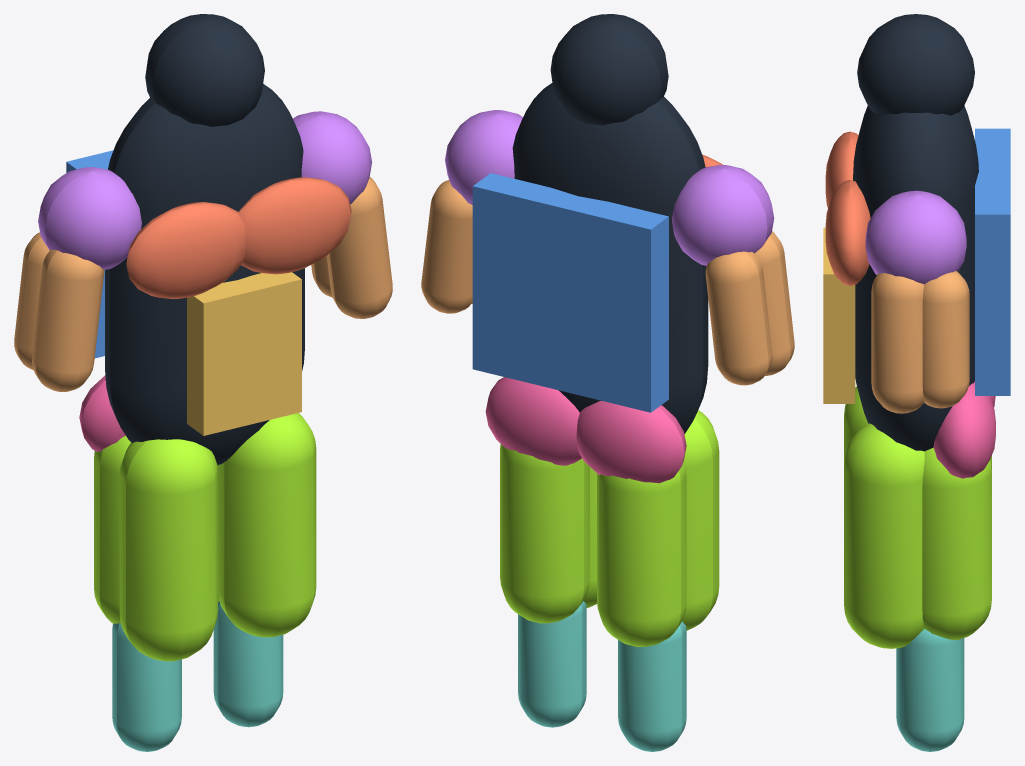
File: ironpulse-muscles.glb
3 views of the same model, side by side, from view 1: azimuth 30°, elevation 25°; view 2: azimuth 150°, elevation 25°; view 3: azimuth 270°, elevation 25° (orthographic). The views are drawn at different scales.
Visible parts, largest first — view 1: Torso, Quadriceps_L, Quadriceps_R, Core, Head, Chest_L, Chest_R, Biceps_L, Shoulder_L, Calf_L, Calf_R, Biceps_R (+5 smaller); view 2: Back, Torso, Hamstring_L, Hamstring_R, Head, Shoulder_L, Glute_L, Triceps_L, Calf_L, Calf_R, Quadriceps_L, Glute_R (+4 smaller); view 3: Torso, Quadriceps_R, Hamstring_R, Head, Back, Shoulder_R, Calf_R, Biceps_R, Triceps_R, Core, Glute_R, Chest_R (+2 smaller).
Part boxes in pixels (x1,y1,x2,y2): Torso: (105, 84, 304, 465); Quadriceps_L: (119, 439, 217, 661); Quadriceps_R: (217, 413, 316, 637); Core: (187, 272, 301, 435); Head: (145, 14, 264, 126); Chest_L: (126, 202, 245, 298); Chest_R: (238, 177, 351, 274); Biceps_L: (32, 249, 104, 391); Shoulder_L: (38, 167, 141, 269); Calf_L: (112, 622, 181, 751); Calf_R: (213, 601, 283, 727); Biceps_R: (326, 177, 392, 318); Back: (472, 173, 668, 412); Torso: (512, 83, 708, 433); Hamstring_L: (597, 461, 686, 646); Hamstring_R: (500, 444, 589, 623); Head: (550, 14, 668, 125); Shoulder_L: (672, 165, 774, 265); Glute_L: (576, 401, 686, 483); Triceps_L: (705, 251, 772, 385); Calf_L: (618, 621, 686, 751); Calf_R: (518, 601, 586, 727); Quadriceps_L: (682, 410, 719, 630); Glute_R: (485, 377, 582, 465); Torso: (853, 105, 978, 451); Quadriceps_R: (844, 423, 924, 648); Hamstring_R: (922, 447, 991, 639); Head: (857, 14, 974, 115); Back: (975, 128, 1010, 395); Shoulder_R: (865, 190, 966, 284); Calf_R: (896, 629, 964, 751); Biceps_R: (871, 273, 924, 413); Triceps_R: (922, 271, 969, 408); Core: (823, 227, 855, 403); Glute_R: (933, 381, 995, 478); Chest_R: (825, 180, 870, 285).
Bounding box in the file's own units: 2.22 × 4.36 × 1.05.
